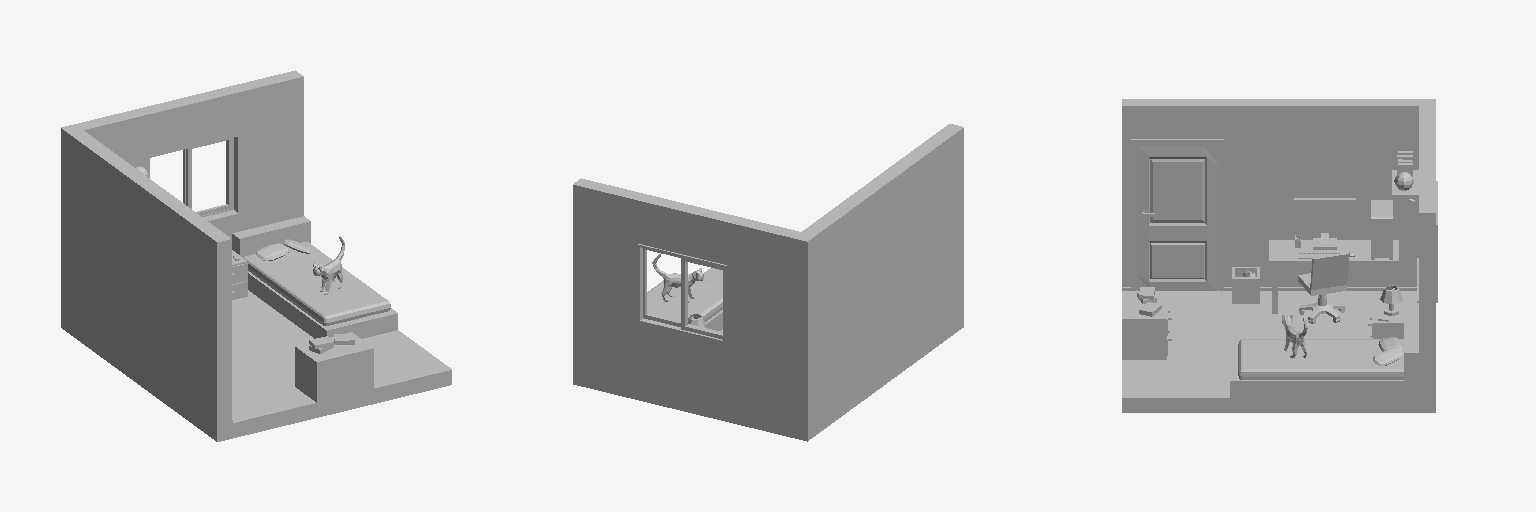
File: room1.obj
3 views of the same model, side by side, from view 1: azimuth 30°, elevation 25°; view 2: azimuth 150°, elevation 25°; view 3: azimuth 270°, elevation 25° (orthographic).
Visible parts, largest first — view 1: Cube.002_Cube.001; view 2: Cube.002_Cube.001; view 3: Cube.002_Cube.001.
Part boxes in pixels (x1,y1,x2,y2): Cube.002_Cube.001: (61, 70, 451, 441); Cube.002_Cube.001: (573, 124, 963, 441); Cube.002_Cube.001: (1122, 99, 1437, 412).
Size of the model in its own units: 3.2 by 2.6 by 3.72.